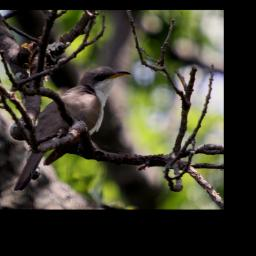Cuckoo: (13, 63, 133, 195)
